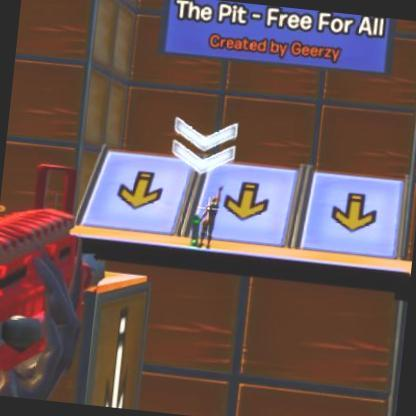person: (202, 199, 222, 247)
